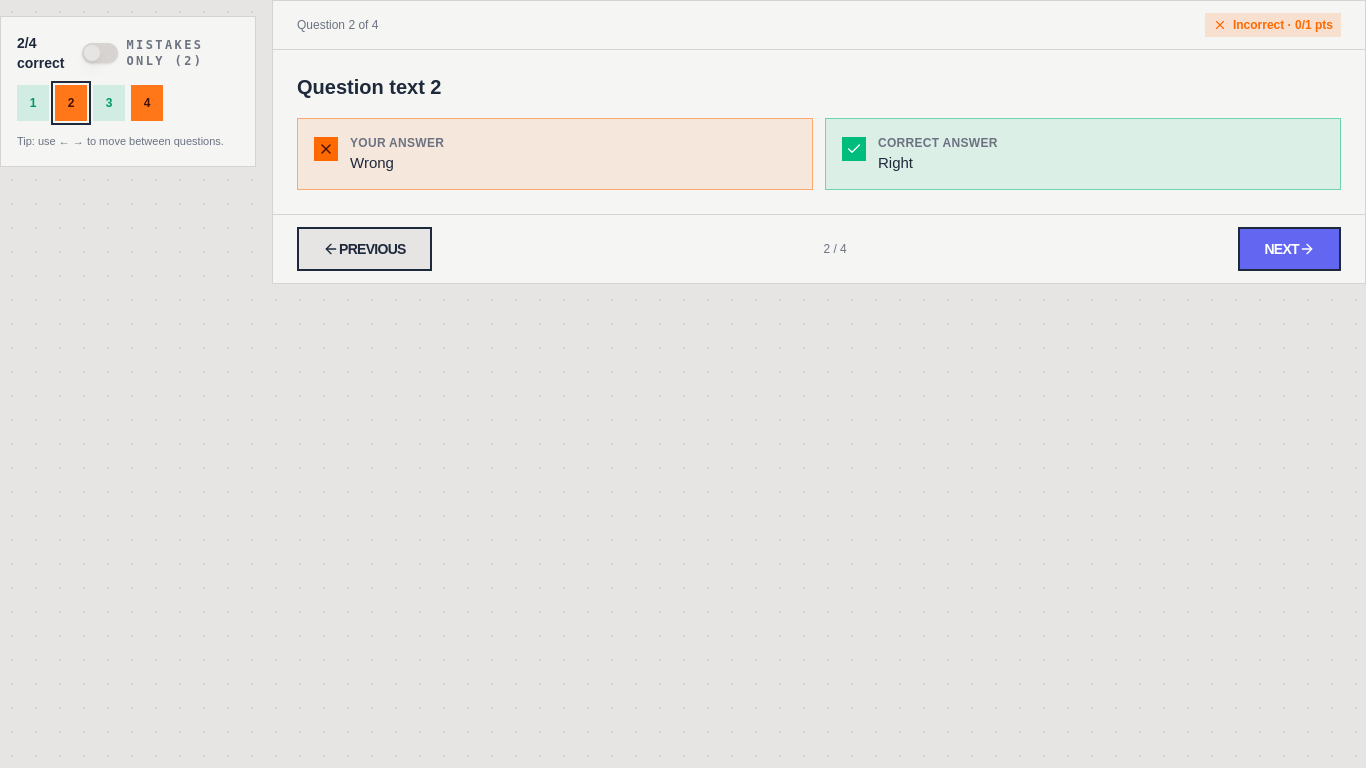
Test case: QuizReview › opens on the first mistake and steps through every question
Expected: the heading "Question text 2" is shown, [297,76,442,98]
Click the button "Next" at (1290, 249), box [1238,227,1341,271]
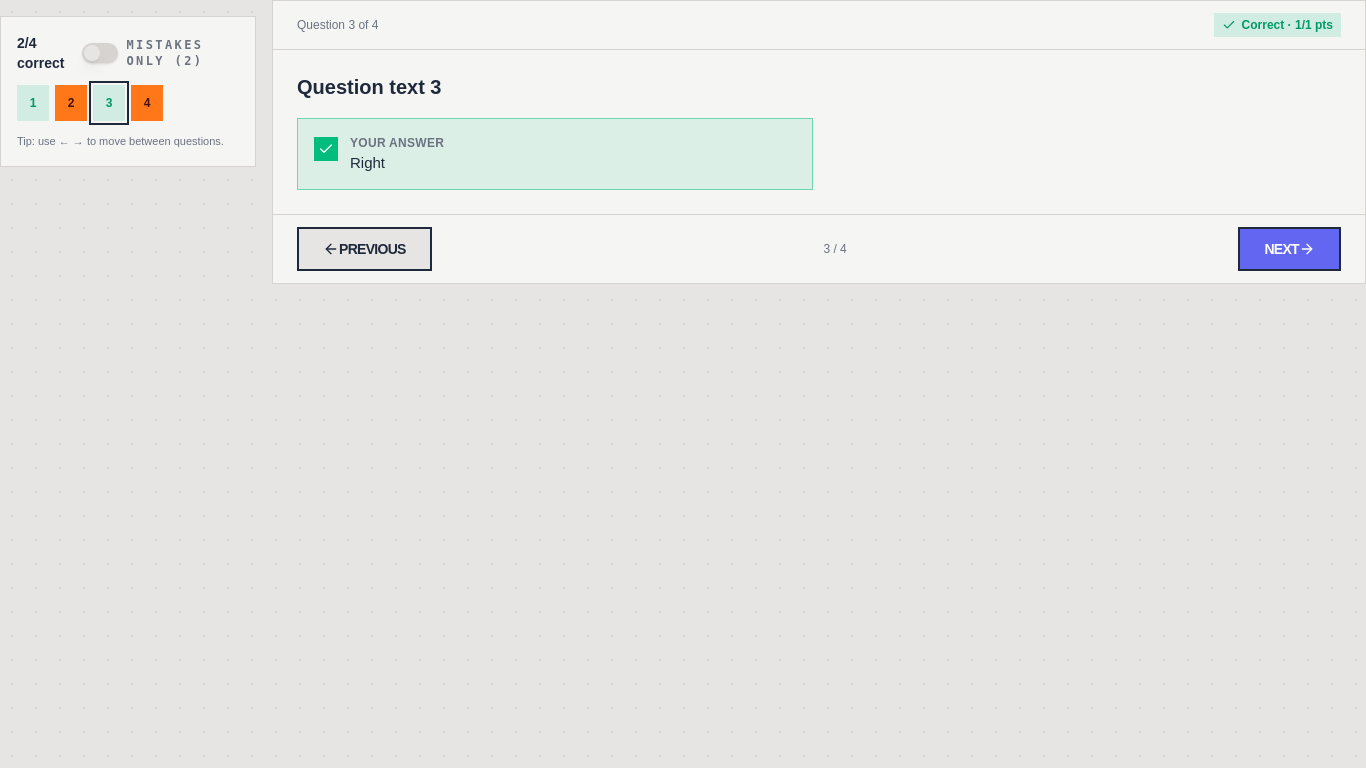
Expected: the heading "Question text 3" is shown, [297,76,442,98]
Press Arrowleft Arrowleft
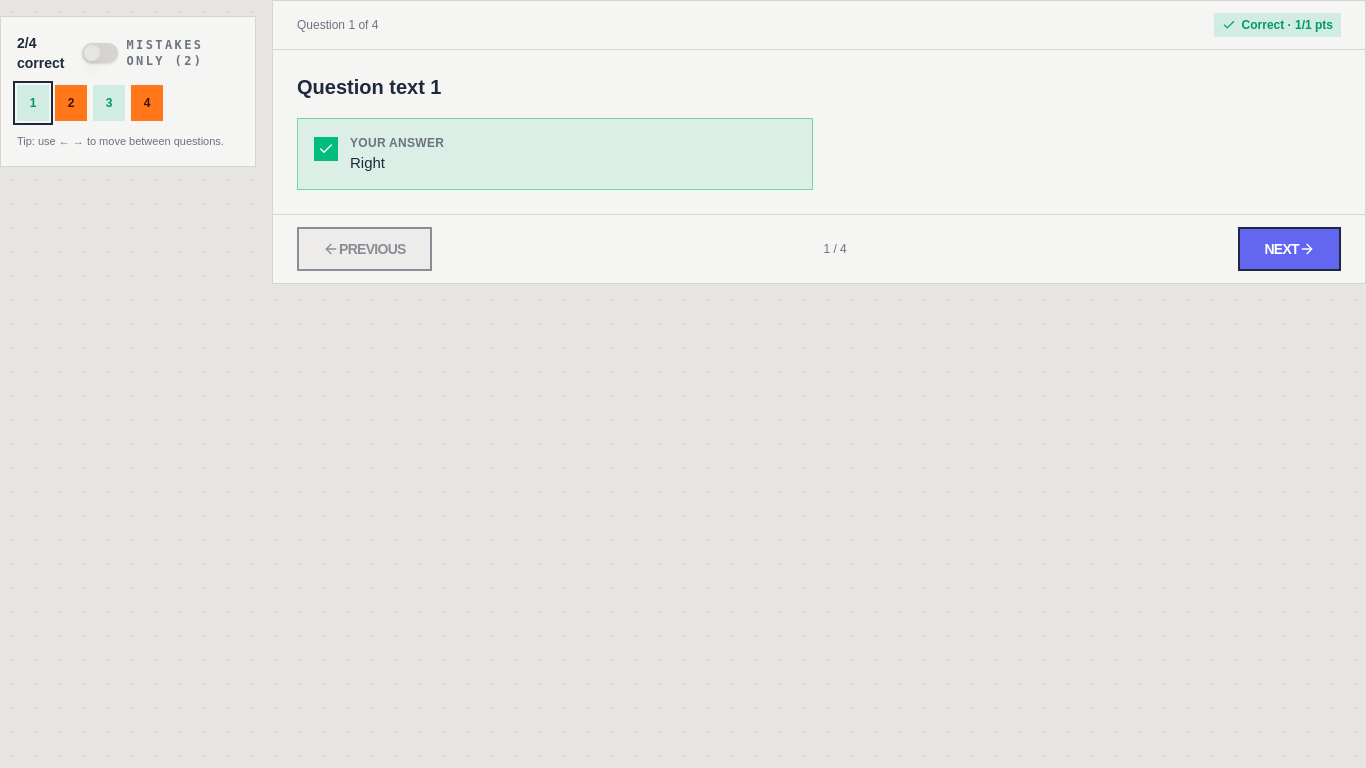
Expected: the heading "Question text 1" is shown, [297,76,442,98]
Expected: the button "Previous" is disabled, [297,227,432,271]
